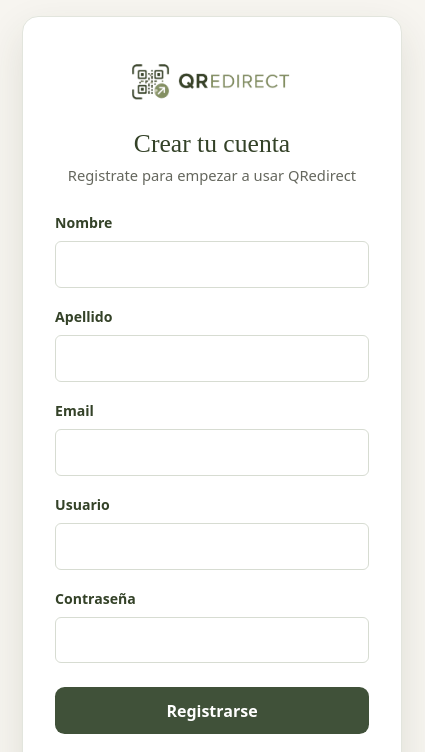
Test: Register › muestra error si el usuario ya existe
Type "Juan" into the field labelled "Nombre" at (212, 264), box [55,241,369,288]
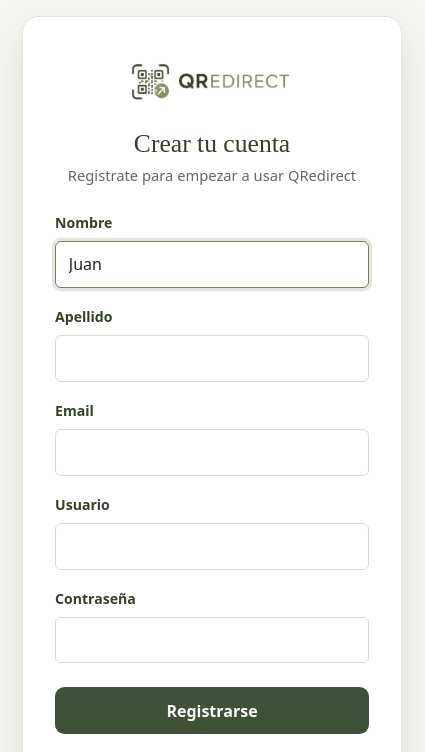
Type "Pérez" into the field labelled "Apellido" at (212, 358), box [55,335,369,382]
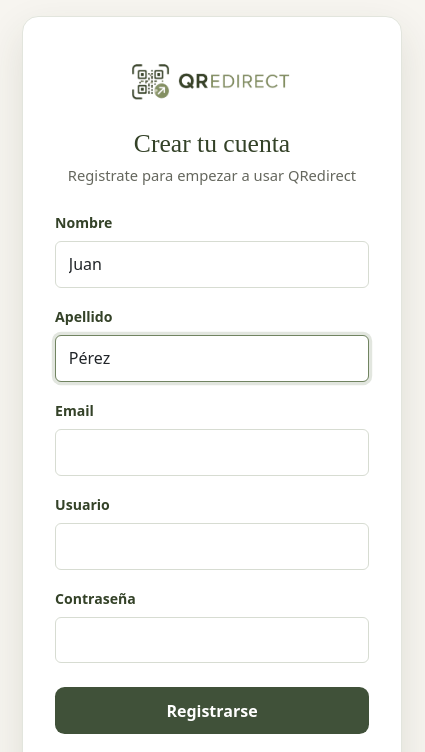
Type "juan@test.com" into the field labelled "Email" at (212, 452), box [55,429,369,476]
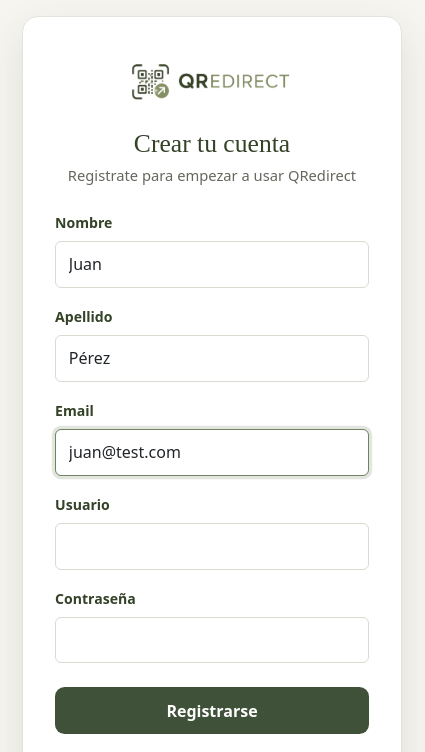
Type "juan" into the field labelled "Usuario" at (212, 546), box [55,523,369,570]
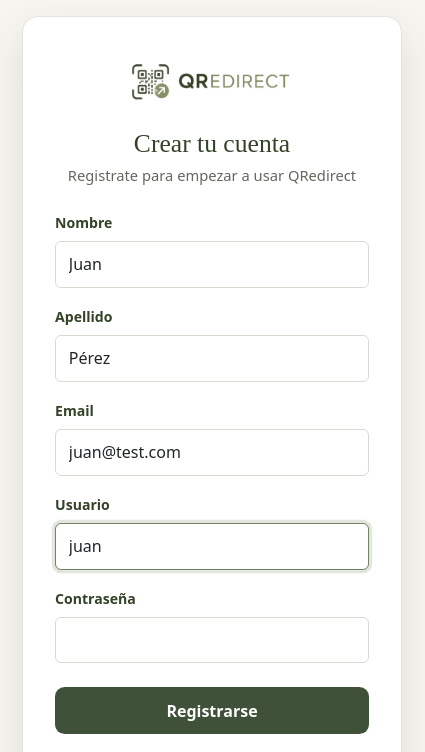
Type "password123" into the password field labelled "Contraseña" at (212, 640), box [55,617,369,663]
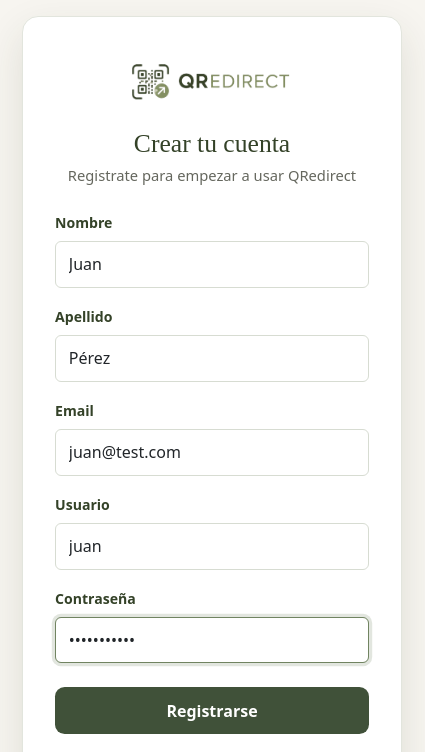
Click the button "Registrarse" at (212, 711), box [55,687,369,734]
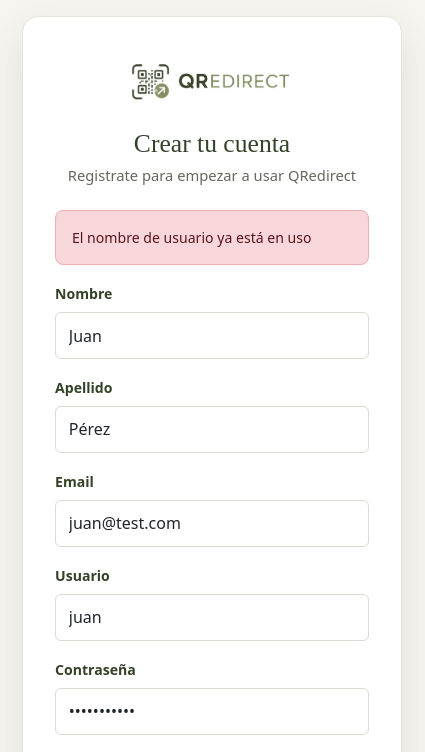
Result: the message reads "El nombre de usuario ya está en uso" at [72,228,312,247]
